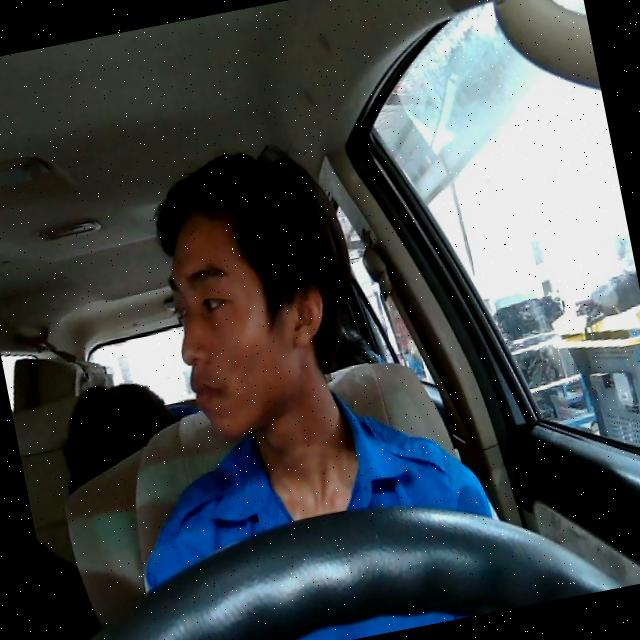seeing_left: (151, 182, 346, 449)
